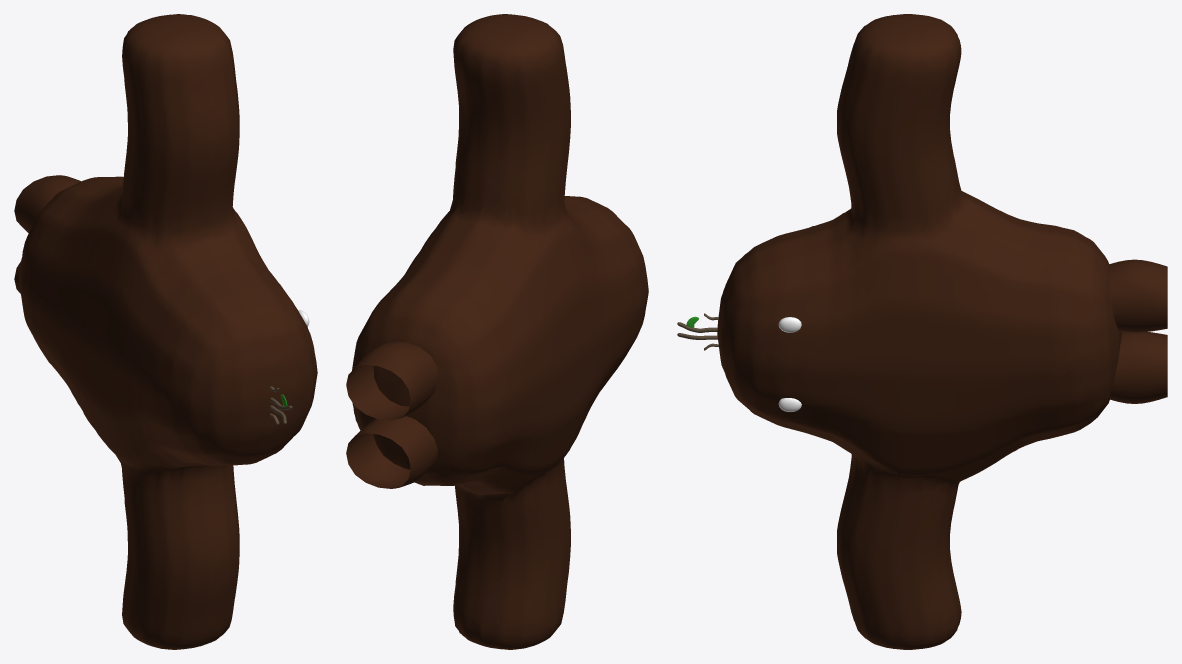
The model's file is golem6.glb.
The picture shows the model from 3 angles, left to right: view 1: azimuth 30°, elevation 25°; view 2: azimuth 150°, elevation 25°; view 3: azimuth 270°, elevation 25°; orthographic projection.
Parts seen in each view (by area): view 1: Cubo.003; view 2: Cubo.003; view 3: Cubo.003.
Part boxes in pixels (bbox=[...]): Cubo.003: bbox=[14, 14, 317, 649]; Cubo.003: bbox=[346, 14, 648, 649]; Cubo.003: bbox=[677, 14, 1167, 649].
Bounding box in the file's own units: 2.86 × 11.19 × 8.1.
